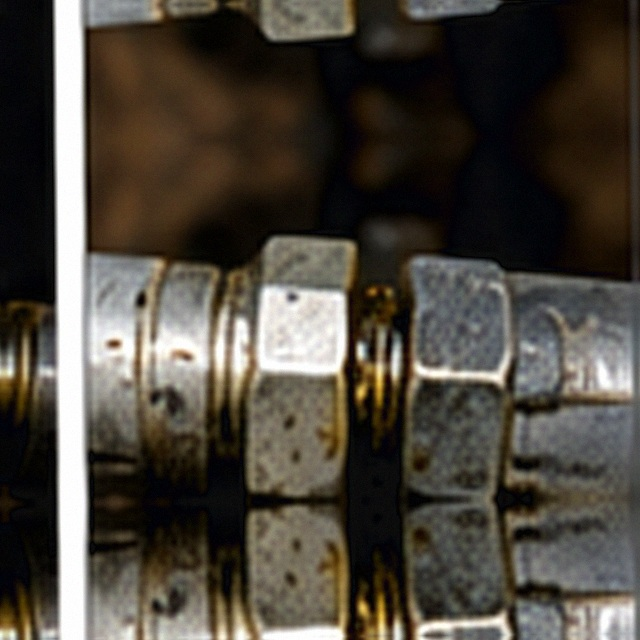hydraulic_oil_leak: (219, 174, 439, 479)
